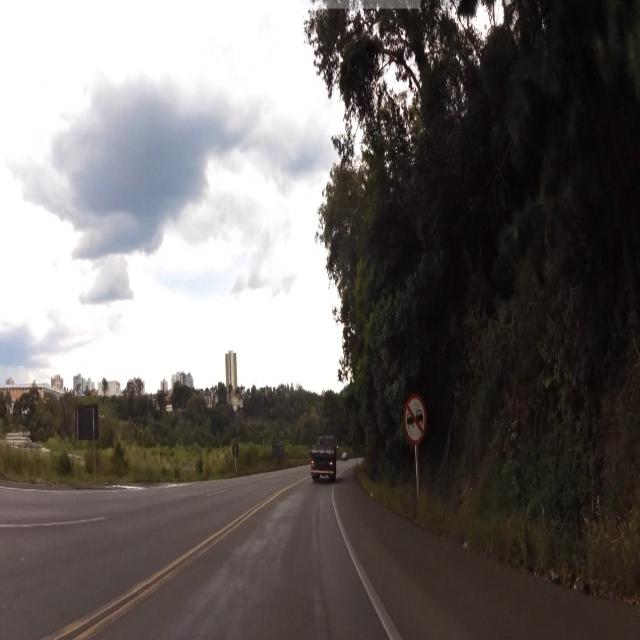R-7: (404, 397, 426, 446)
